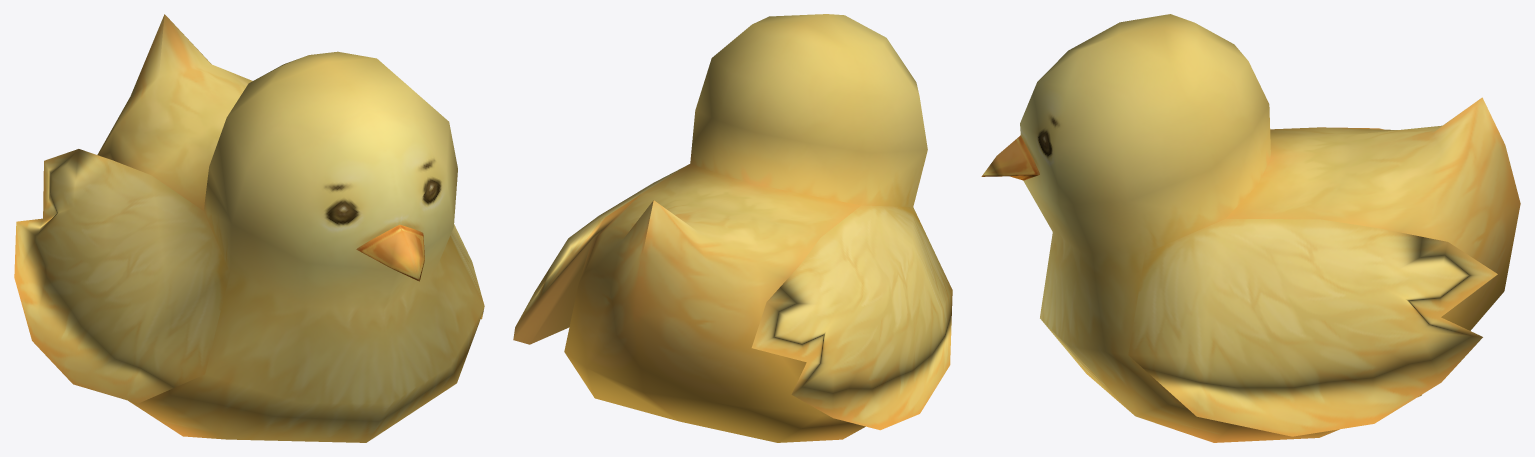
File: Headwear_2600048.fbx
3 renders of one model, left to right at view 1: azimuth 30°, elevation 25°; view 2: azimuth 150°, elevation 25°; view 3: azimuth 270°, elevation 25°, orthographic. The views are drawn at different scales.
Visible parts, largest first — view 1: Headwear_2600048; view 2: Headwear_2600048; view 3: Headwear_2600048.
Part boxes in pixels (x1=…): Headwear_2600048: x1=14, y1=14, x2=484, y2=442; Headwear_2600048: x1=513, y1=14, x2=952, y2=442; Headwear_2600048: x1=981, y1=14, x2=1520, y2=442.
Bounding box in the file's own units: 17.9 × 16.81 × 22.59.
